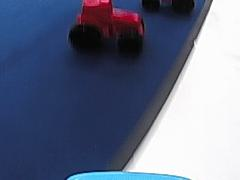Tracktor: (65, 0, 149, 50)
